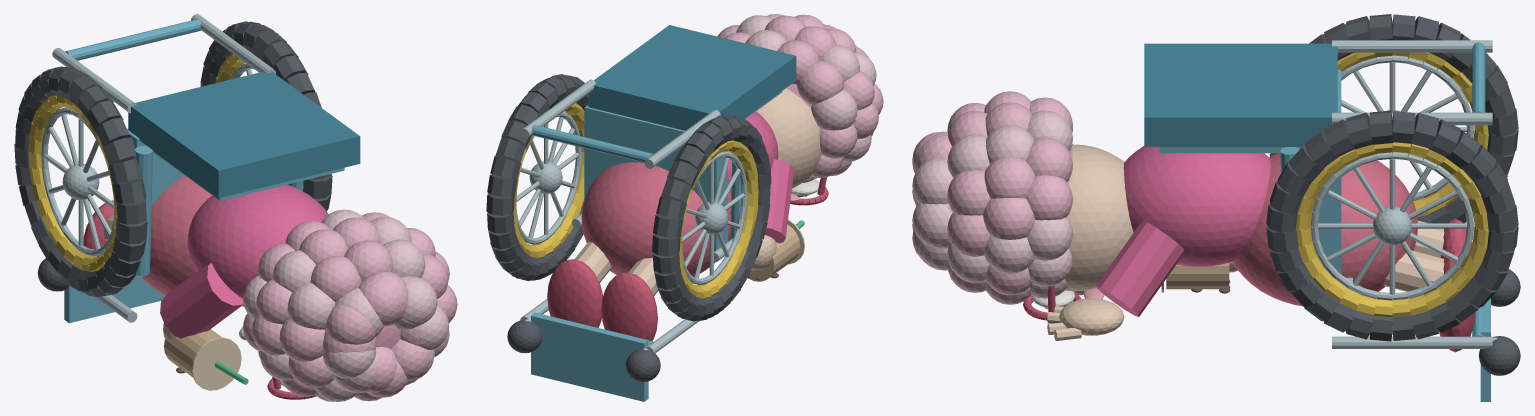
Rendered from grandma_wheelchair.glb.
3 renders of one model, left to right at view 1: azimuth 30°, elevation 25°; view 2: azimuth 150°, elevation 25°; view 3: azimuth 270°, elevation 25°, orthographic. The views are drawn at different scales.
Parts seen in each view (by area): view 1: back118, blouse250, skirt249, leftsleeve256, footrest248, lid266, rail112, curl373, curl372, curl383, curl374, curl371 (+58 smaller); view 2: back118, skirt249, footrest248, seat117, face275, shoe253, shoe255, leftsleeve256, curl346, rail112, curl347, cup265 (+47 smaller); view 3: back118, blouse250, skirt249, face275, rightsleeve258, frame110, righthand259, frame233, curl354, curl355, curl342, seat117 (+70 smaller).
Part boxes in pixels (x1=…): back118: x1=128, y1=71, x2=360, y2=198; blouse250: x1=187, y1=184, x2=328, y2=306; skirt249: x1=141, y1=175, x2=212, y2=295; leftsleeve256: x1=160, y1=262, x2=243, y2=338; footrest248: x1=64, y1=275, x2=165, y2=323; lid266: x1=191, y1=337, x2=241, y2=390; rail112: x1=65, y1=19, x2=201, y2=60; curl373: x1=287, y1=282, x2=335, y2=329; curl372: x1=310, y1=255, x2=361, y2=301; curl383: x1=326, y1=304, x2=375, y2=344; curl374: x1=279, y1=318, x2=324, y2=361; curl371: x1=344, y1=240, x2=393, y2=281; back118: x1=588, y1=25, x2=796, y2=130; skirt249: x1=581, y1=162, x2=731, y2=276; footrest248: x1=531, y1=313, x2=648, y2=401; seat117: x1=584, y1=105, x2=727, y2=251; face275: x1=756, y1=88, x2=821, y2=188; shoe253: x1=601, y1=272, x2=657, y2=340; shoe255: x1=547, y1=259, x2=602, y2=327; leftsleeve256: x1=765, y1=159, x2=794, y2=243; curl346: x1=796, y1=60, x2=843, y2=104; rail112: x1=532, y1=125, x2=653, y2=162; curl347: x1=811, y1=89, x2=857, y2=130; cup265: x1=748, y1=224, x2=800, y2=281; back118: x1=1144, y1=43, x2=1337, y2=146; blouse250: x1=1123, y1=146, x2=1270, y2=266; skirt249: x1=1232, y1=153, x2=1417, y2=306; face275: x1=1065, y1=144, x2=1133, y2=291; rightsleeve258: x1=1096, y1=221, x2=1184, y2=316; frame110: x1=1332, y1=40, x2=1492, y2=52; righthand259: x1=1059, y1=298, x2=1124, y2=335; frame233: x1=1332, y1=336, x2=1492, y2=348; curl354: x1=983, y1=198, x2=1035, y2=239; curl355: x1=984, y1=157, x2=1035, y2=198; curl342: x1=1026, y1=175, x2=1072, y2=220; seat117: x1=1313, y1=69, x2=1341, y2=277.
Bounding box in the file's own units: 1.19 × 1.45 × 2.61.
